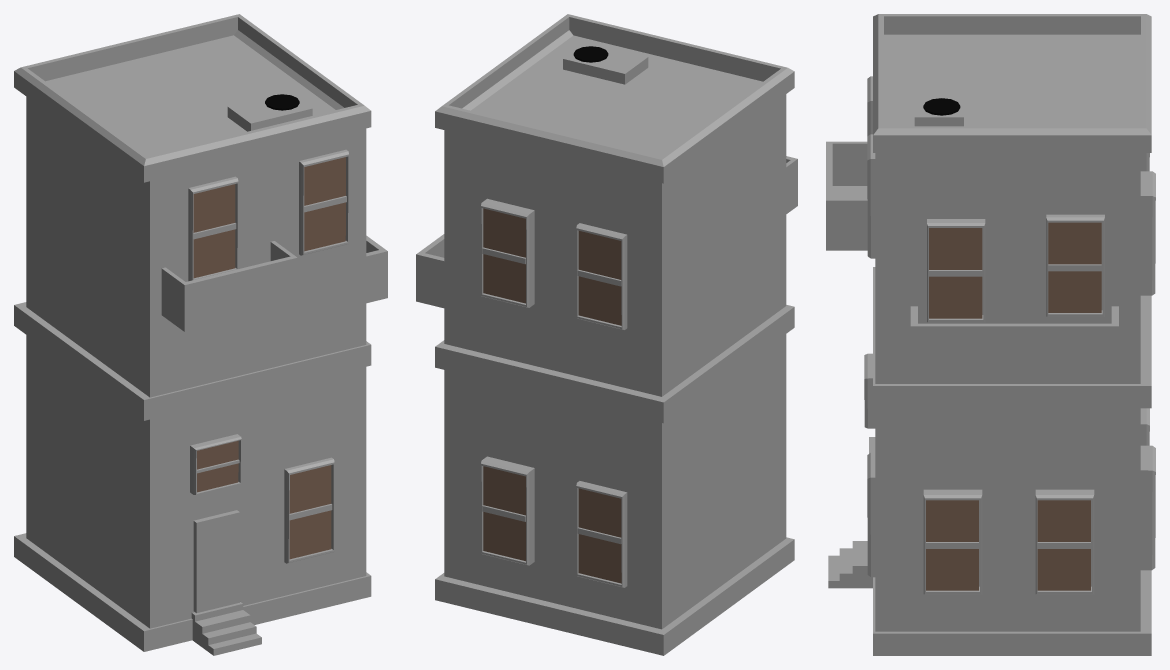
The model's file is SmallApartment.fbx.
3 renders of one model, left to right at view 1: azimuth 30°, elevation 25°; view 2: azimuth 150°, elevation 25°; view 3: azimuth 270°, elevation 25°, orthographic. The views are drawn at different scales.
Parts seen in each view (by area): view 1: pCube215, pCube34, pCube33, pCube39, pCube91, polySurface377, polySurface376, polySurface14, pCube267, pCube37, polySurface378, pCube36 (+1 smaller); view 2: pCube215, pCube34, pCube39, pCube33, polySurface382, polySurface384, polySurface381, polySurface383, pCube36, pCube266, pCube91; view 3: pCube215, pCube34, pCube266, pCube33, pCube39, polySurface379, polySurface380, polySurface386, polySurface385, pCube91, polySurface382, polySurface384 (+6 smaller).
Boxes of the visible parts, <box> form: pCube215: <box>26,97,366,628</box>; pCube34: <box>14,14,371,182</box>; pCube33: <box>14,302,371,420</box>; pCube39: <box>14,533,371,651</box>; pCube91: <box>161,241,297,331</box>; polySurface377: <box>284,457,334,563</box>; polySurface376: <box>299,149,349,255</box>; polySurface14: <box>188,176,238,281</box>; pCube267: <box>193,510,239,613</box>; pCube37: <box>191,601,261,655</box>; polySurface378: <box>190,434,241,494</box>; pCube36: <box>227,91,312,131</box>; pCube215: <box>444,94,786,629</box>; pCube34: <box>435,14,794,183</box>; pCube39: <box>435,537,794,655</box>; pCube33: <box>435,305,794,423</box>; polySurface382: <box>481,456,534,565</box>; polySurface384: <box>481,198,534,307</box>; polySurface381: <box>576,481,627,587</box>; polySurface383: <box>576,223,627,329</box>; pCube36: <box>563,42,648,84</box>; pCube266: <box>416,234,444,308</box>; pCube91: <box>786,156,797,213</box>; pCube215: <box>875,153,1140,631</box>; pCube34: <box>873,14,1151,152</box>; pCube266: <box>910,306,1118,376</box>; pCube33: <box>873,267,1151,408</box>; pCube39: <box>873,570,1151,655</box>; polySurface379: <box>923,489,982,594</box>; polySurface380: <box>1035,489,1094,594</box>; polySurface386: <box>927,219,985,322</box>; polySurface385: <box>1046,214,1104,316</box>; pCube91: <box>826,141,867,250</box>; polySurface382: <box>1140,445,1155,570</box>; polySurface384: <box>1140,171,1155,295</box>.
Size of the model in its own units: 37.96 by 68.09 by 38.69.
